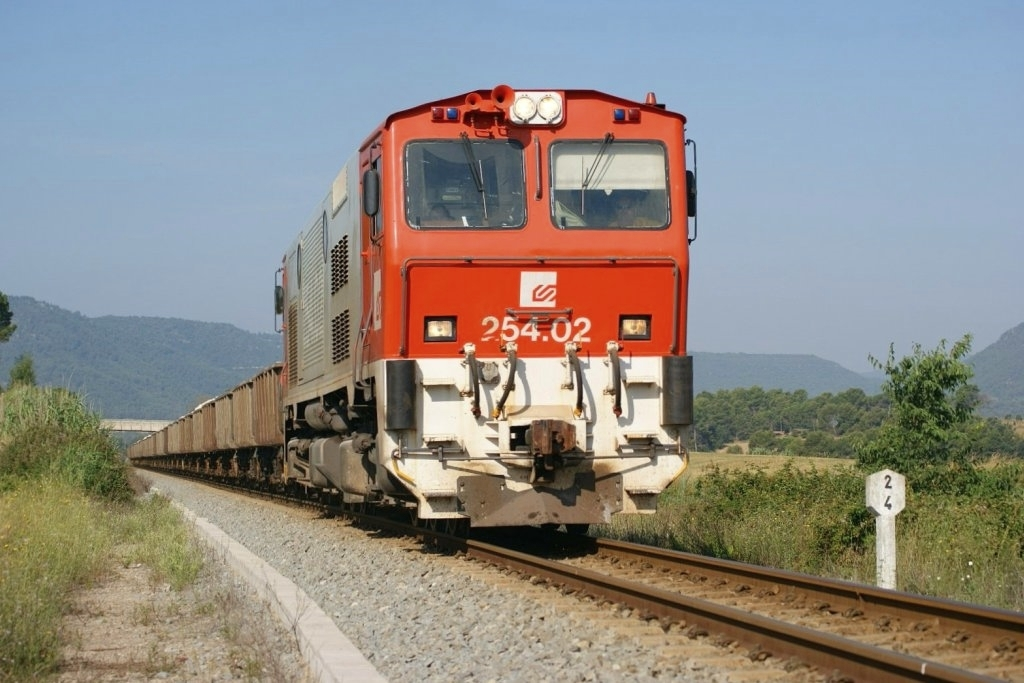train: (126, 80, 696, 529)
